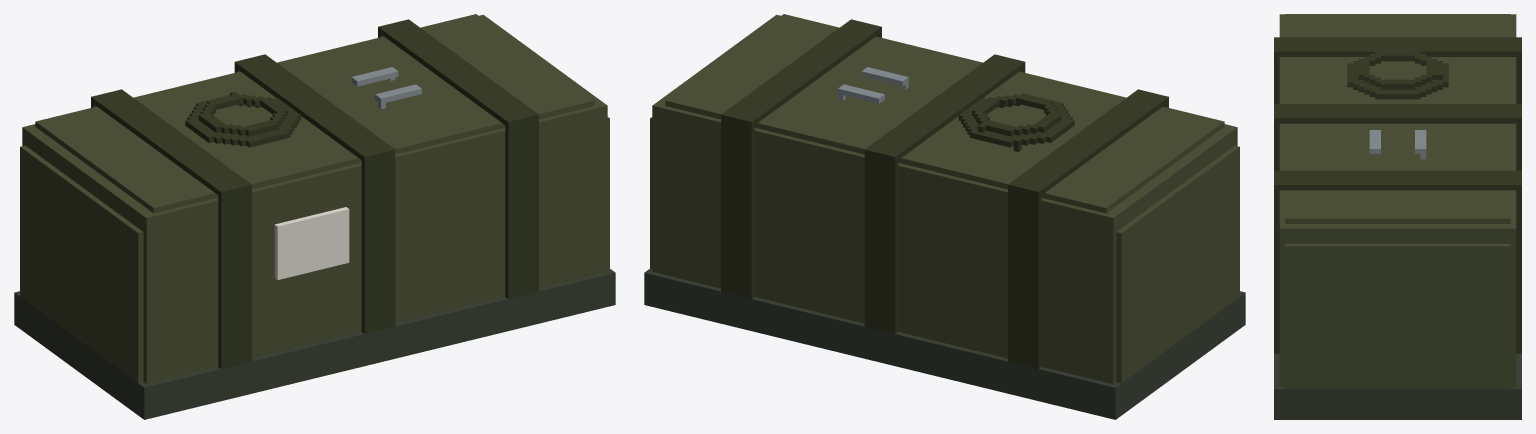
Rendered from parachute_mil.glb.
The picture shows the model from 3 angles, left to right: view 1: azimuth 30°, elevation 25°; view 2: azimuth 150°, elevation 25°; view 3: azimuth 270°, elevation 25°; orthographic projection. The views are drawn at different scales.
Visible parts, largest first — view 1: parachute_mil:compound; view 2: parachute_mil:compound; view 3: parachute_mil:compound.
Boxes of the visible parts, x1=… form: parachute_mil:compound: x1=14, y1=14, x2=615, y2=419; parachute_mil:compound: x1=644, y1=14, x2=1245, y2=419; parachute_mil:compound: x1=1274, y1=14, x2=1521, y2=419.
Size of the model in its own units: 0.92 by 0.41 by 0.44.
